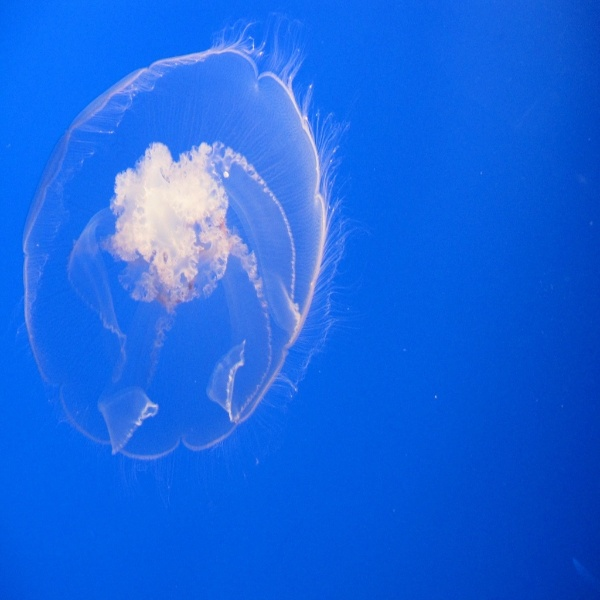Jellyfish: (9, 12, 370, 512)
